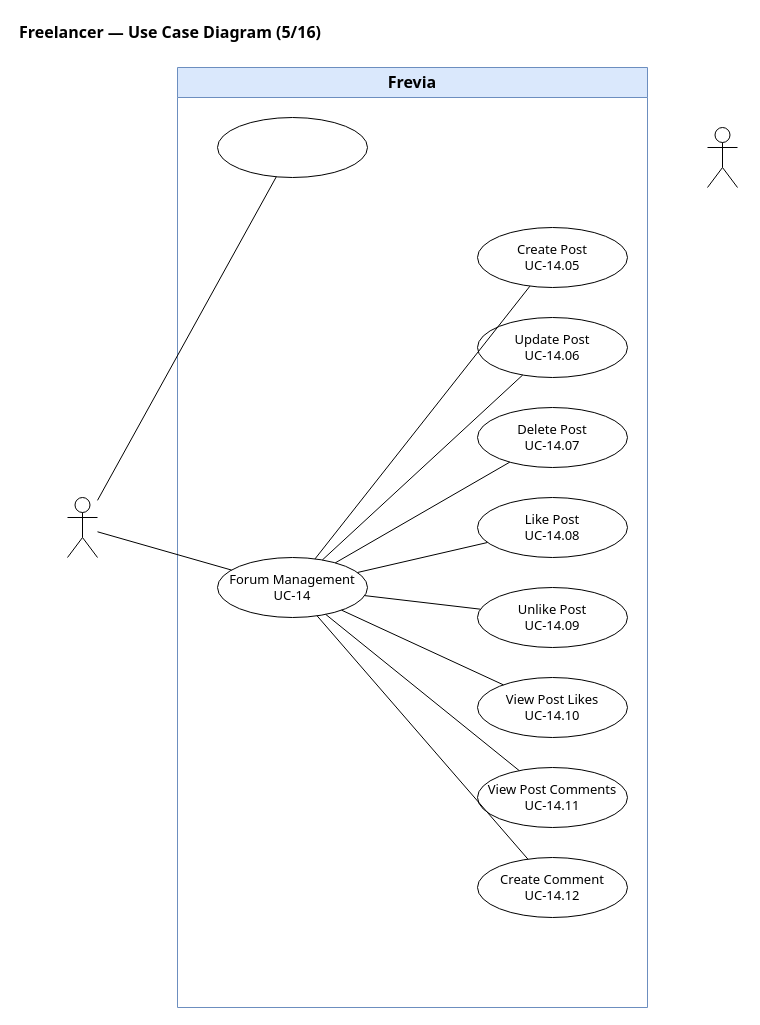
The diagram is 760 pixels wide and 1025 high, and some of its shapes have lost their labels. The shapes that lost their labels are listed below. From the top down, each one's centre as x and y in pixels, then its label:
At [292,147]: "View Post Detail UC-14.04".
At [722,157]: "Stripe".
At [82,527]: "Freelancer".
